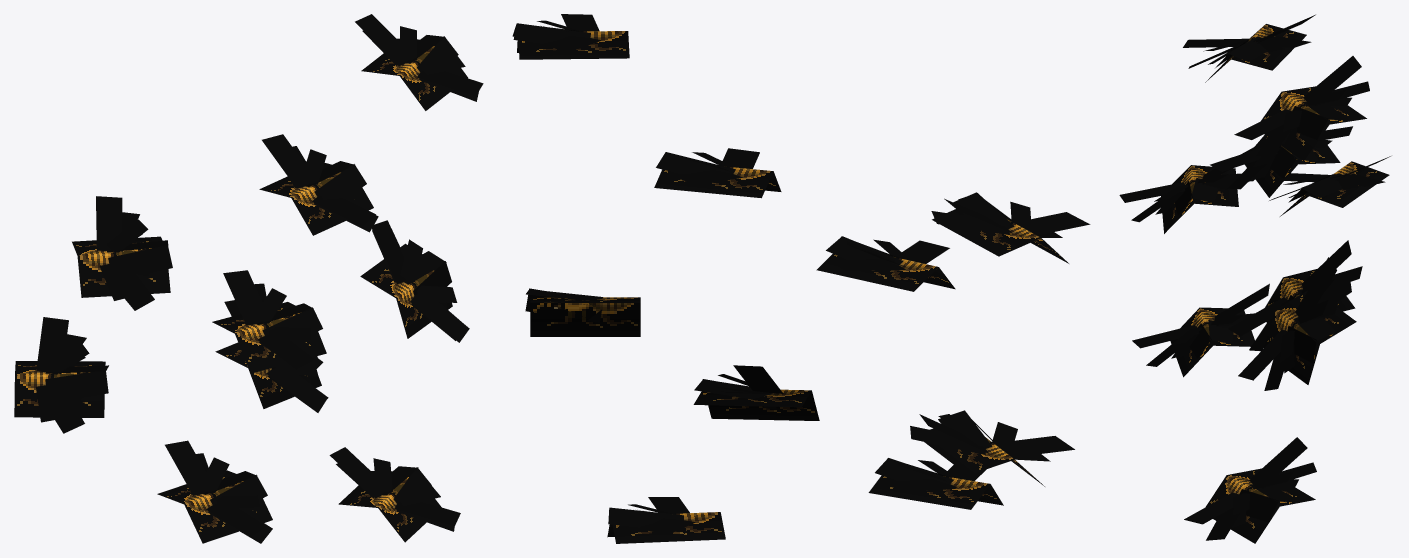
3 views of the same model, side by side, from view 1: azimuth 30°, elevation 25°; view 2: azimuth 150°, elevation 25°; view 3: azimuth 270°, elevation 25° (orthographic). The views are drawn at different scales.
Parts seen in each view (by area): view 1: uma_hachi; view 2: uma_hachi; view 3: uma_hachi.
Part boxes in pixels (x1,y1,x2,y2): uma_hachi: (14,14,483,543); uma_hachi: (512,14,1090,543); uma_hachi: (1119,14,1390,543).
Bounding box in the file's own units: 1.54 × 1.54 × 0.8145.
Materials: 2 (2 with a texture image).
